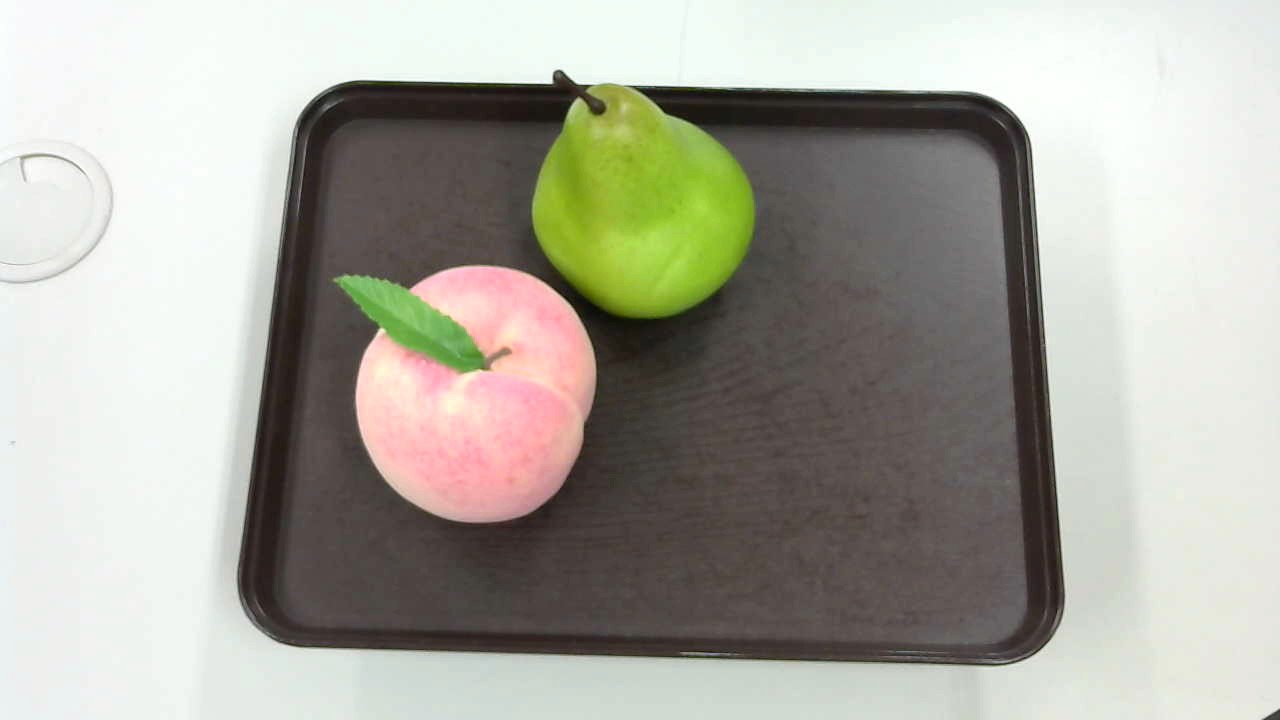green pear: (524, 67, 758, 325)
peach: (331, 258, 603, 521)
